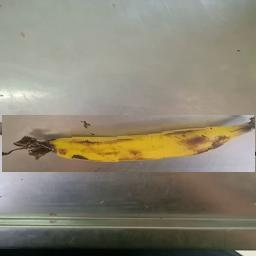Banana Fresh: (3, 115, 256, 172)
